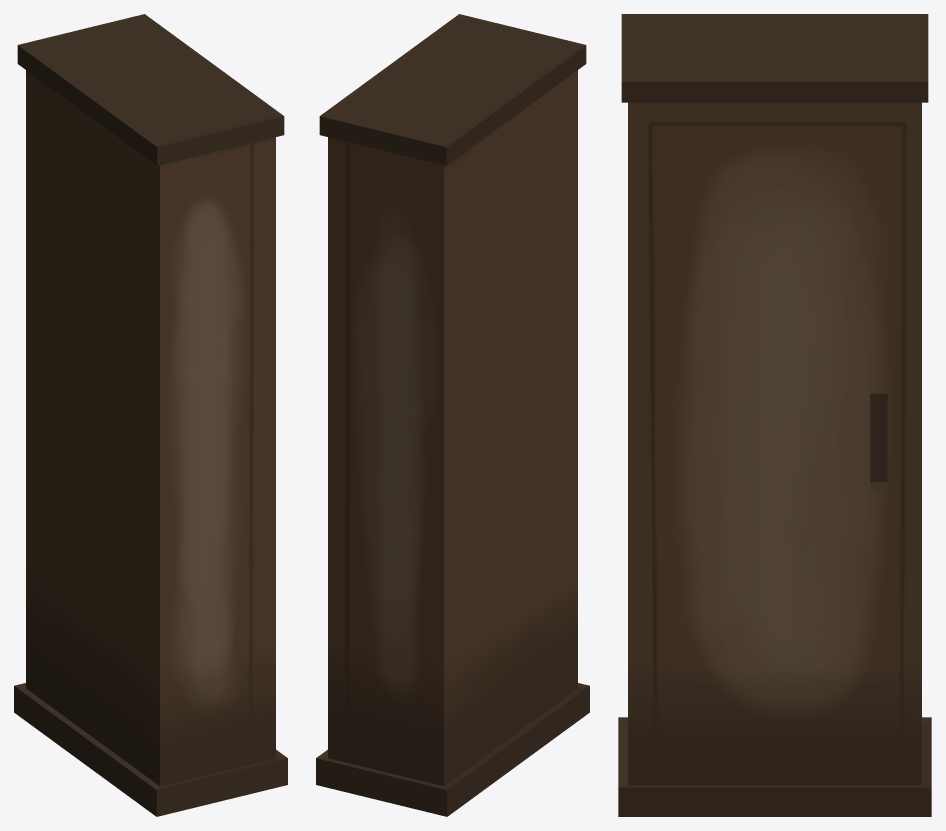
File: TallFurniture.fbx
3 renders of one model, left to right at view 1: azimuth 30°, elevation 25°; view 2: azimuth 150°, elevation 25°; view 3: azimuth 270°, elevation 25°, orthographic. The views are drawn at different scales.
Parts seen in each view (by area): view 1: Cube; view 2: Cube; view 3: Cube.
Boxes of the visible parts, x1,y1,x2,y2 form: Cube: (14,14,287,816); Cube: (316,14,589,816); Cube: (618,14,931,816).
Bounding box in the file's own units: 286 × 1390 × 538.
